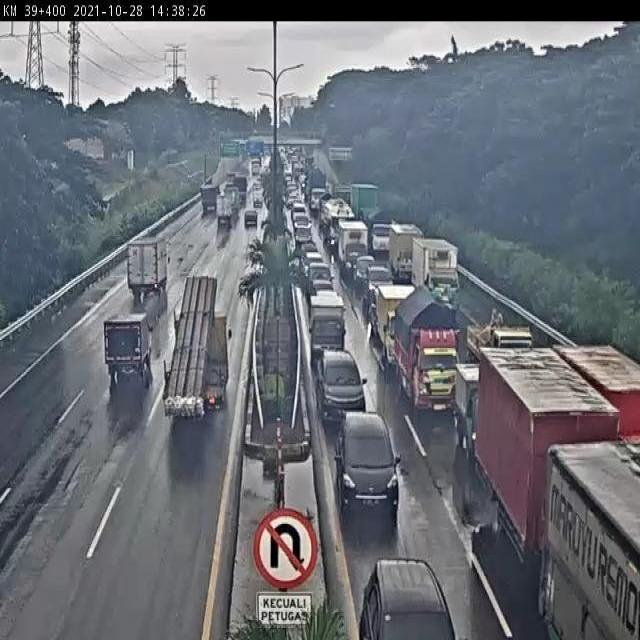big truck: (478, 360, 601, 549), (541, 432, 636, 632), (566, 324, 640, 439), (350, 184, 385, 240), (306, 164, 327, 212)
car: (365, 556, 456, 640), (336, 417, 397, 504), (316, 351, 365, 416), (308, 291, 346, 352), (306, 264, 334, 300), (355, 252, 374, 291), (367, 262, 384, 302), (302, 250, 326, 274), (300, 239, 319, 260), (244, 207, 261, 229), (287, 183, 304, 204), (293, 207, 309, 228), (296, 224, 312, 243), (225, 171, 236, 189)
small truck: (162, 281, 238, 419), (393, 290, 454, 410), (103, 299, 156, 388), (464, 309, 528, 367), (119, 230, 165, 306), (410, 236, 460, 296), (376, 278, 406, 366), (454, 360, 479, 453), (323, 197, 352, 255), (390, 221, 419, 279), (339, 220, 366, 277), (366, 213, 389, 251), (214, 190, 236, 226), (199, 178, 216, 210), (332, 180, 353, 201), (251, 176, 266, 205), (236, 172, 247, 199), (252, 157, 263, 179)
